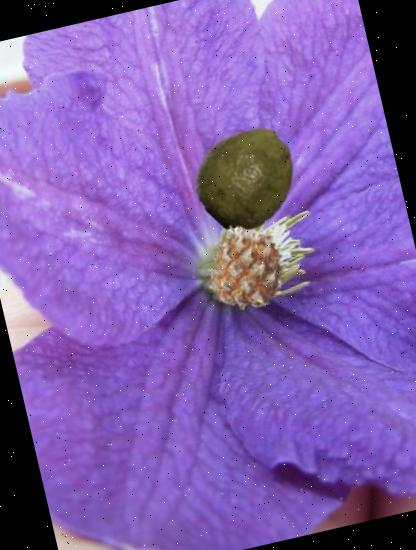Guava: (183, 114, 310, 240)
Pineapple: (195, 216, 298, 318)
